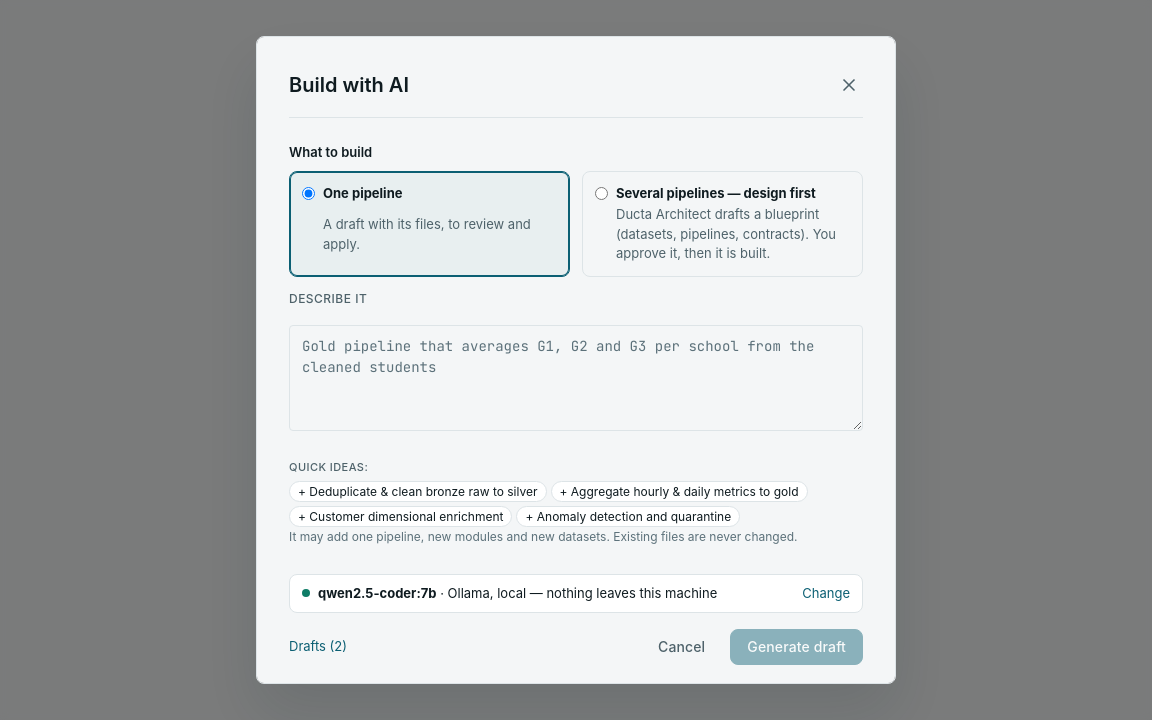
Test: Ducta Architect in Build with AI › labels Architect drafts in the list
Click the button "Drafts (2)": (318, 647) [289, 636, 347, 657]
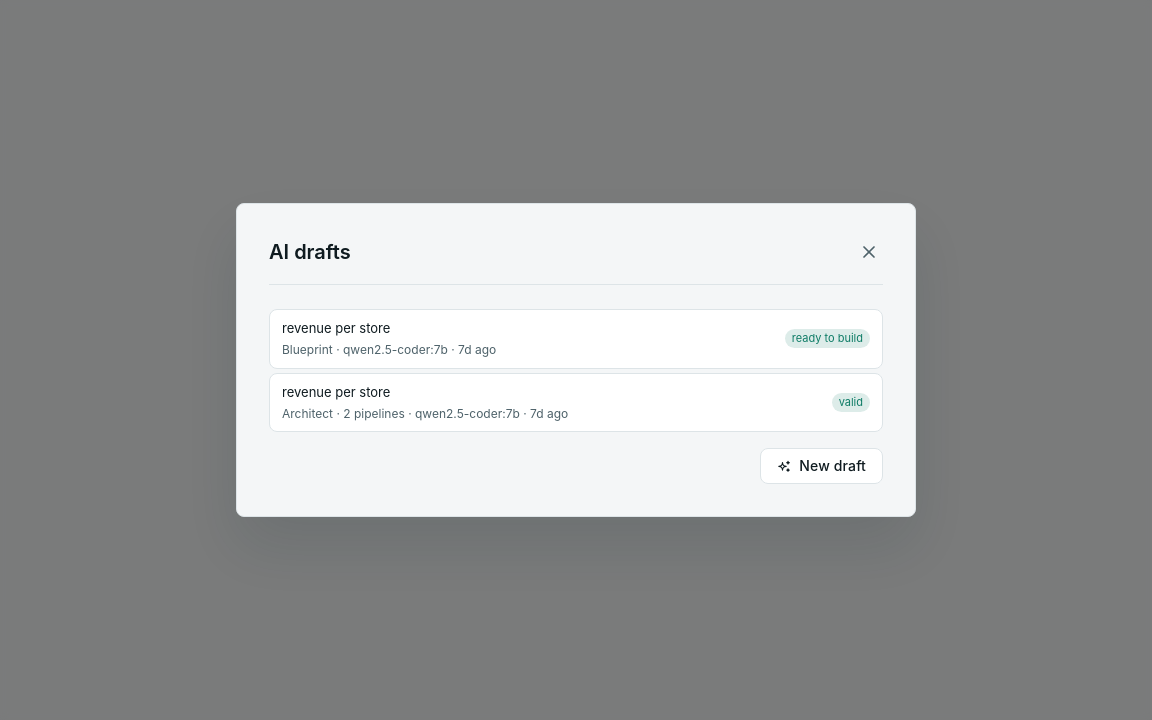
Expected: the text "Blueprint · qwen2.5-coder:7b · 7d ago" is shown, [282, 342, 496, 357]
Expected: the text "Architect · 2 pipelines · qwen2.5-coder:7b · 7d ago" is shown, [282, 406, 568, 421]
Expected: the text "ready to build" is shown, [785, 329, 870, 348]
